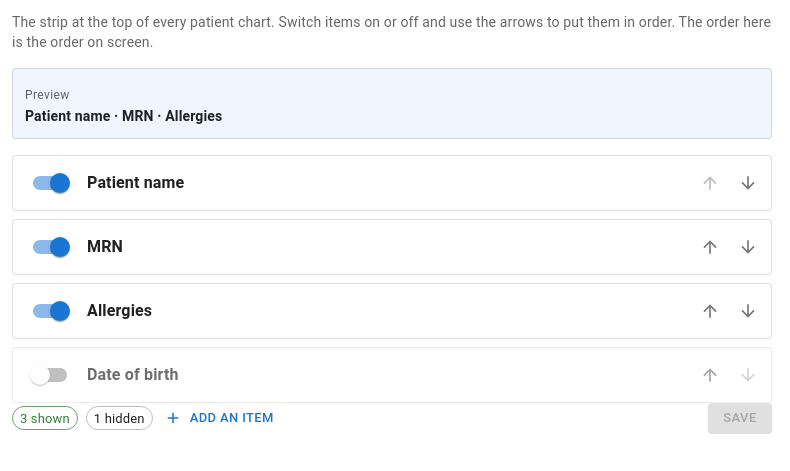
Scenario: cannot save with nothing shown
Check: the element with test id "header-row-name" is shown, box [12,155,772,211]
Click the 1st switch.
click(50, 183)  # box [21,164,79,202]
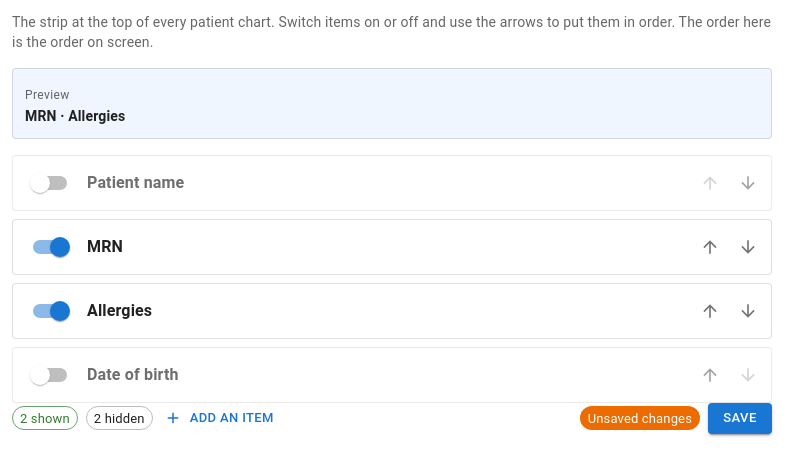
Click the switch named "Show MRN".
click(50, 247)  # box [21,228,79,266]
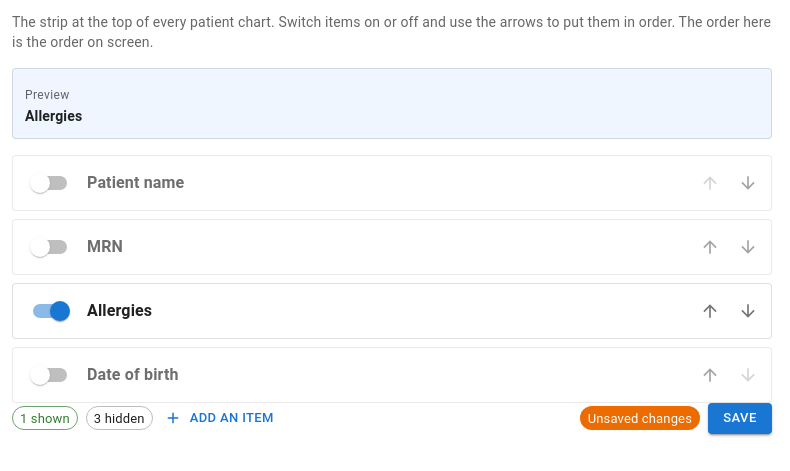
Click the 3rd switch.
click(50, 311)  # box [21,292,79,330]
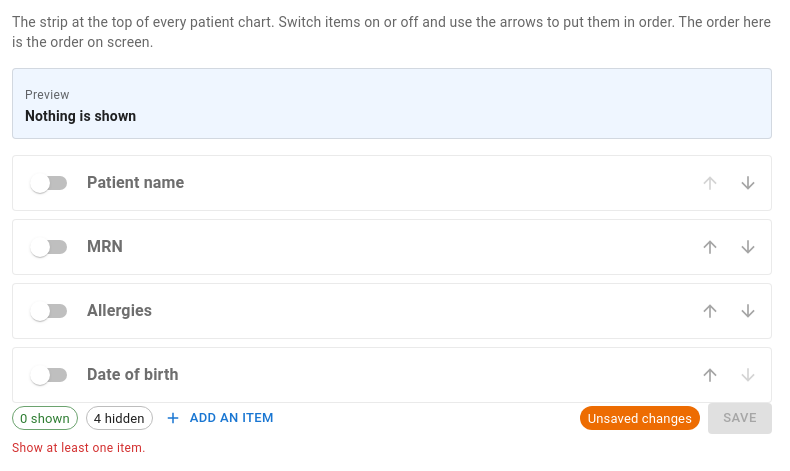
Check: the button "Save" is disabled, box [708,403,772,434]
Check: the text "Show at least one item." is shown, box [12,441,146,455]
